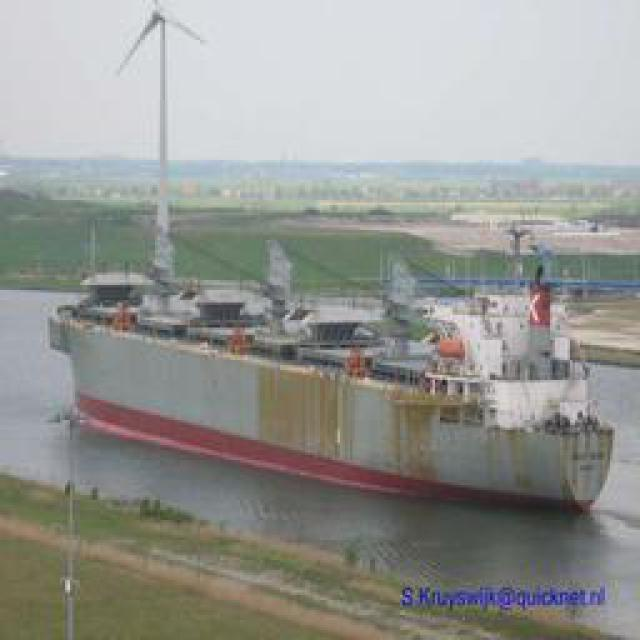Ship: (48, 196, 625, 523)
